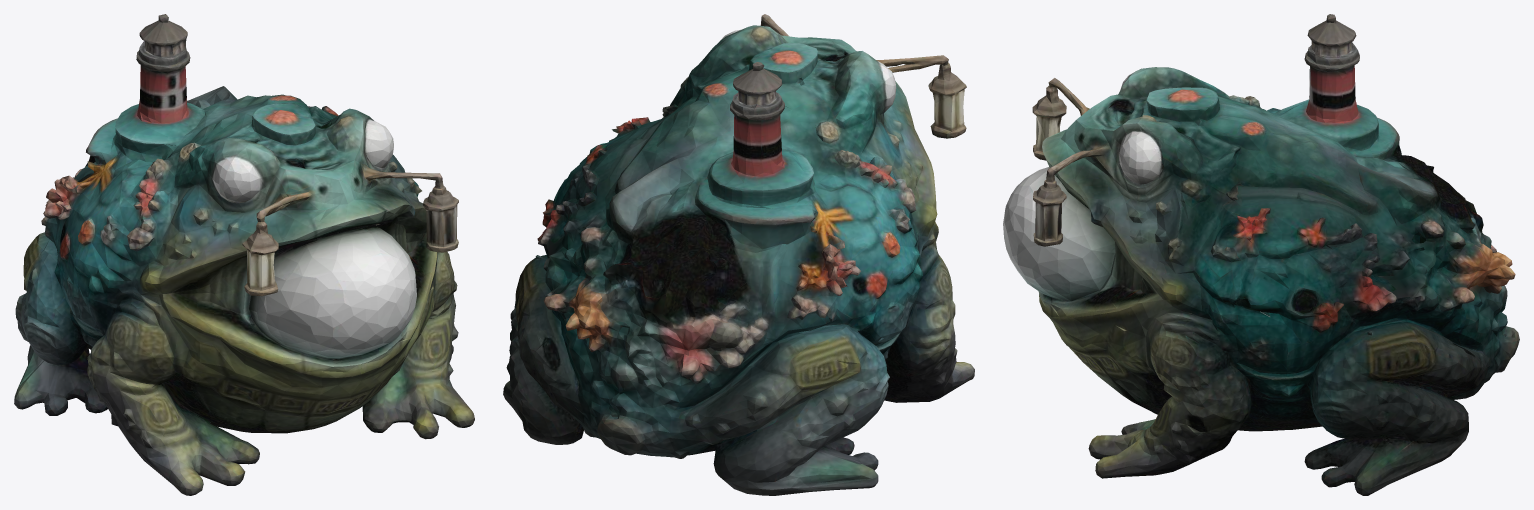
The model's file is mawdeep__toadOfTheGulf.glb.
3 views of the same model, side by side, from view 1: azimuth 30°, elevation 25°; view 2: azimuth 150°, elevation 25°; view 3: azimuth 270°, elevation 25° (orthographic). The views are drawn at different scales.
Parts seen in each view (by area): view 1: world; view 2: world; view 3: world.
Boxes of the visible parts, <box> form: world: <box>14,14,474,495</box>; world: <box>503,14,974,495</box>; world: <box>1003,14,1519,495</box>.
Bounding box in the file's own units: 0.8082 × 0.8001 × 0.9972.
1 material, 1 textured.
